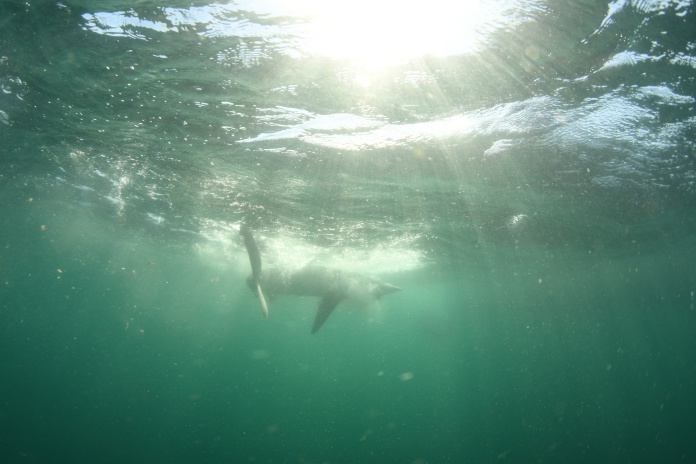Mako: (229, 217, 411, 339)
